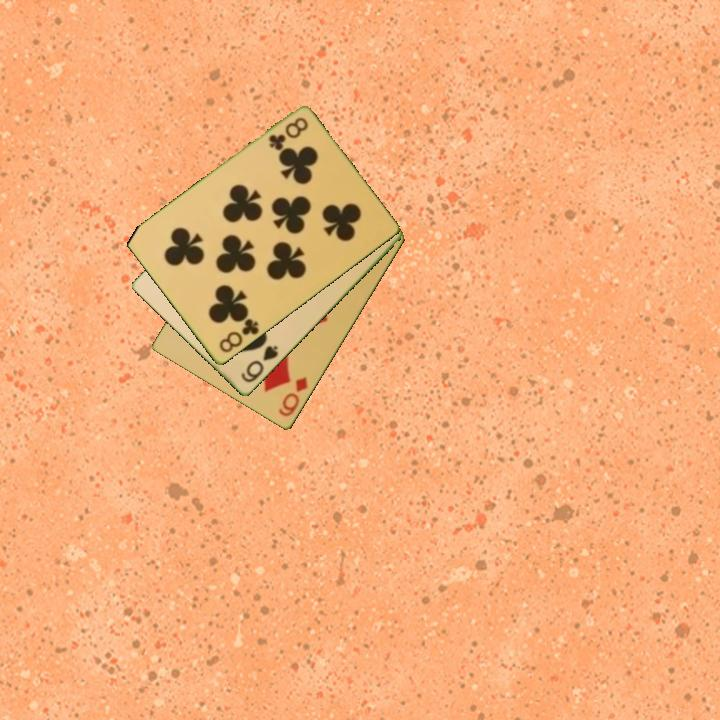6d: (275, 373, 311, 420)
6s: (237, 342, 281, 386)
8c: (215, 315, 262, 356), (265, 114, 311, 154)
